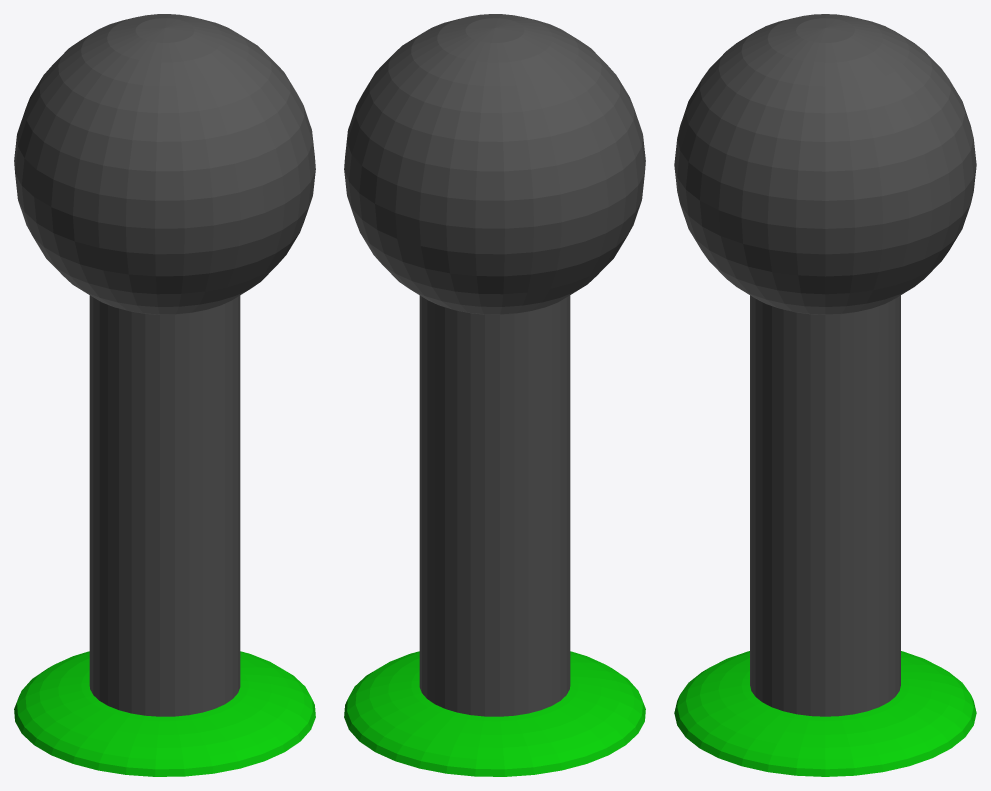
The model's file is Person.glb.
The picture shows the model from 3 angles, left to right: view 1: azimuth 30°, elevation 25°; view 2: azimuth 150°, elevation 25°; view 3: azimuth 270°, elevation 25°; orthographic projection.
Visible parts, largest first — view 1: Person; view 2: Person; view 3: Person.
Part boxes in pixels (x1,y1,x2,y2): Person: [14, 14, 315, 776]; Person: [344, 14, 645, 776]; Person: [674, 14, 976, 776].
Bounding box in the file's own units: 0.5 × 1.25 × 0.5.
Materials: 3 (3 with a texture image).
